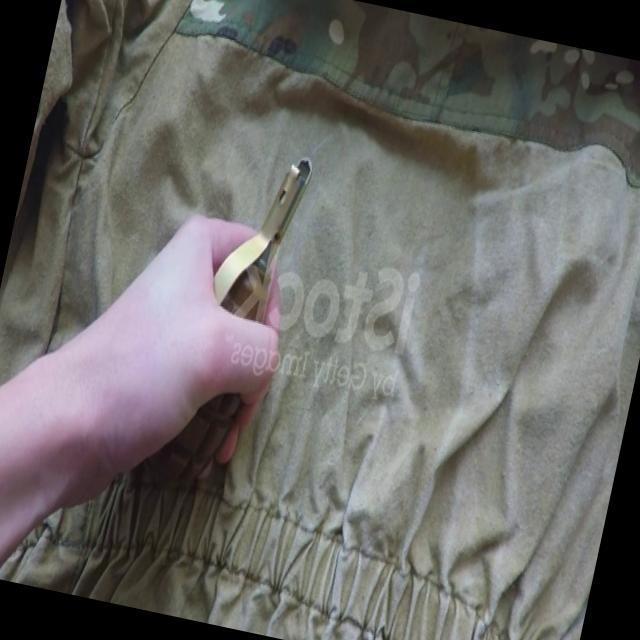grenade: (122, 136, 314, 496)
